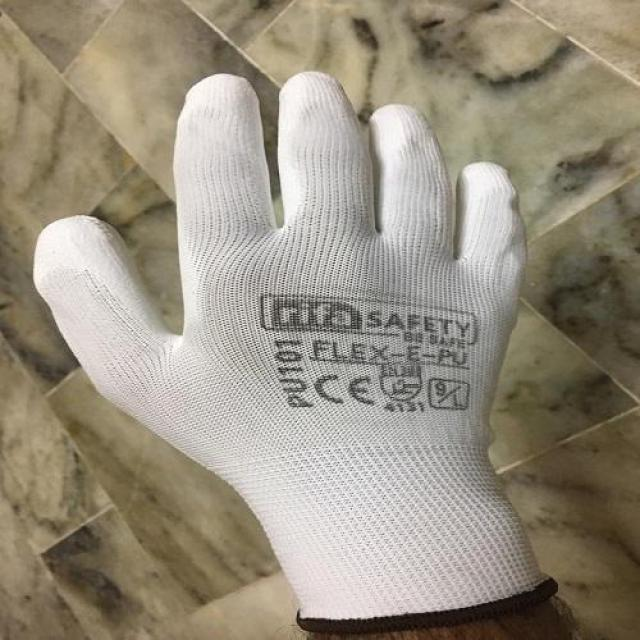gloves: (32, 71, 562, 630)
